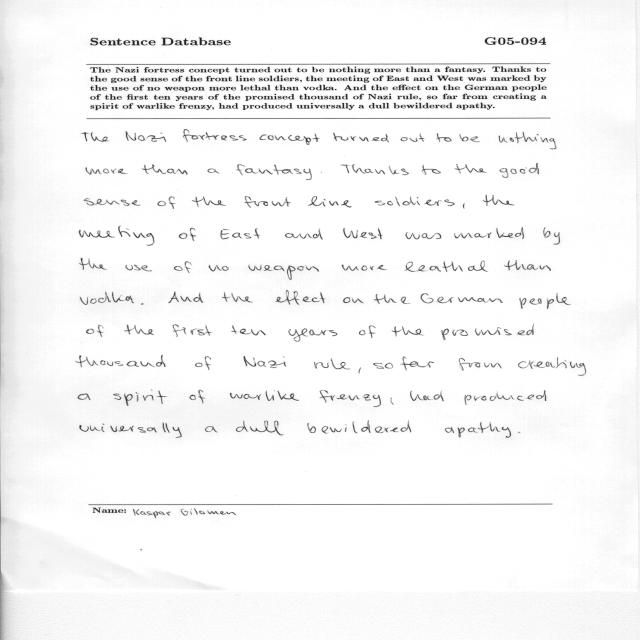word: (80, 422, 182, 438), (80, 226, 155, 246), (441, 324, 534, 340), (308, 421, 412, 434), (518, 357, 586, 376), (465, 390, 547, 405), (236, 164, 312, 180), (76, 356, 165, 368), (248, 265, 319, 280), (445, 422, 511, 438), (320, 390, 381, 407), (499, 132, 557, 149), (404, 261, 488, 272), (113, 390, 167, 406), (454, 227, 524, 239), (183, 129, 247, 142), (421, 293, 503, 303), (520, 293, 571, 309), (340, 164, 409, 175), (230, 390, 299, 401), (276, 290, 326, 305), (260, 133, 320, 145), (375, 197, 455, 206), (236, 421, 284, 436), (80, 292, 134, 305), (289, 328, 338, 342), (500, 163, 539, 178), (244, 196, 291, 208), (333, 133, 389, 143), (459, 358, 502, 371), (504, 260, 551, 271), (173, 324, 212, 337), (244, 356, 286, 368), (401, 357, 435, 371), (308, 196, 351, 207), (126, 131, 167, 142), (142, 165, 187, 175), (84, 198, 140, 206), (220, 228, 260, 239), (343, 228, 382, 239), (314, 358, 350, 369), (169, 292, 204, 303), (285, 230, 323, 240), (192, 196, 226, 207), (374, 294, 410, 304), (483, 195, 515, 206), (392, 326, 424, 337), (231, 326, 266, 336), (222, 292, 253, 303), (410, 391, 444, 401), (79, 258, 107, 270), (455, 164, 487, 174), (342, 264, 387, 271), (543, 227, 560, 245), (124, 325, 154, 335), (86, 168, 128, 175), (82, 132, 109, 142), (406, 233, 442, 240), (179, 228, 197, 241), (195, 356, 211, 370), (158, 196, 175, 209), (359, 325, 376, 338), (401, 133, 425, 142), (174, 261, 192, 273), (86, 325, 104, 337), (190, 390, 205, 404), (422, 165, 441, 175), (125, 265, 152, 271), (460, 134, 480, 142), (437, 133, 452, 142), (343, 297, 364, 303), (209, 265, 229, 271), (373, 363, 393, 369), (78, 393, 91, 400), (205, 426, 217, 432), (207, 169, 219, 174), (391, 398, 394, 405), (359, 367, 361, 374), (463, 203, 465, 209), (141, 303, 144, 305), (518, 432, 520, 433), (321, 172, 322, 172)
